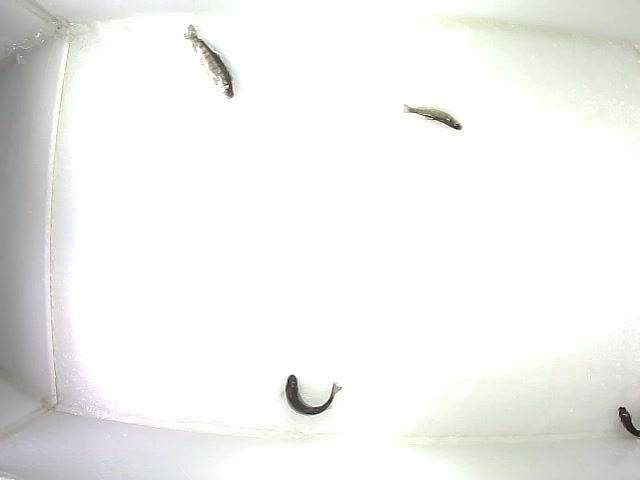fish: (183, 23, 235, 101), (278, 373, 344, 417), (402, 102, 465, 132), (618, 406, 640, 439)
